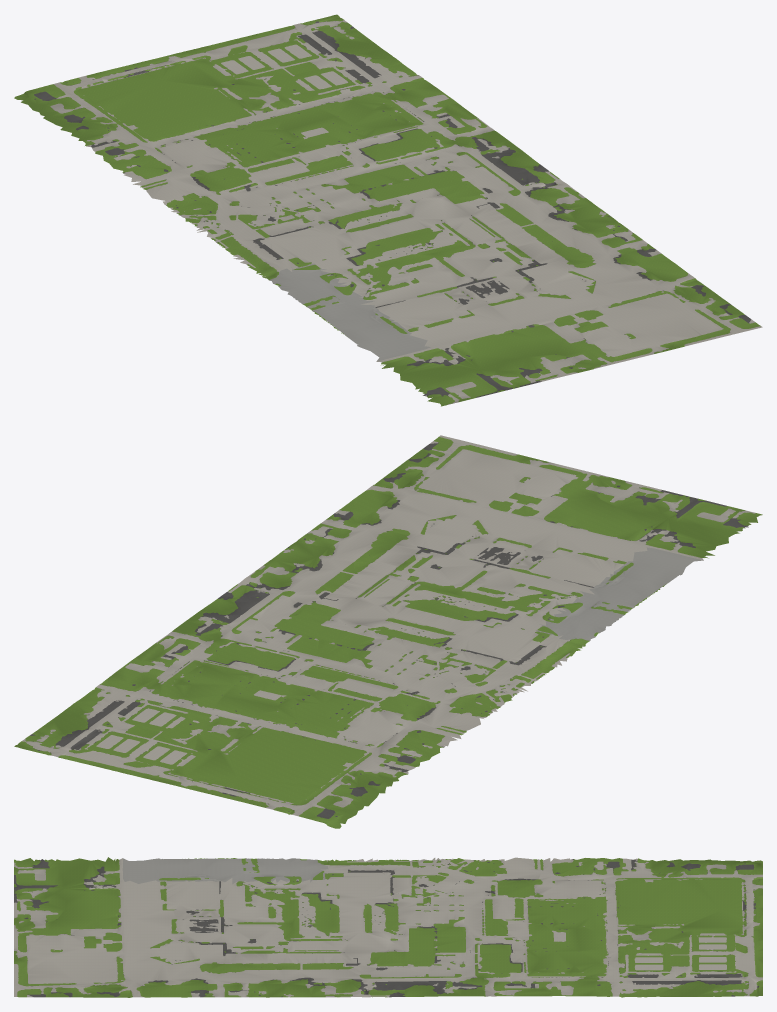
File: wmhs-v3-partA2-terrain-east-mobile.glb
3 views of the same model, one above another, from view 1: azimuth 30°, elevation 25°; view 2: azimuth 150°, elevation 25°; view 3: azimuth 270°, elevation 25° (orthographic). The views are drawn at different scales.
Parts seen in each view (by area): view 1: Terrain_LiDAR05_East; view 2: Terrain_LiDAR05_East; view 3: Terrain_LiDAR05_East.
Boxes of the visible parts, left/top/right/bottom form: Terrain_LiDAR05_East: left=14, top=14, right=762, bottom=406; Terrain_LiDAR05_East: left=14, top=435, right=762, bottom=828; Terrain_LiDAR05_East: left=14, top=857, right=762, bottom=997.
Size of the model in its own units: 285 by 3.51 by 642.
Materials: 5 (5 with a texture image).
